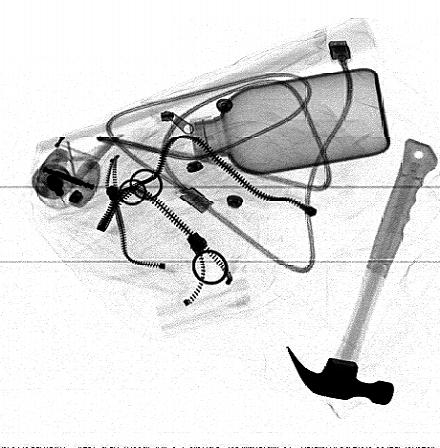Hammer: (287, 138, 439, 406)
